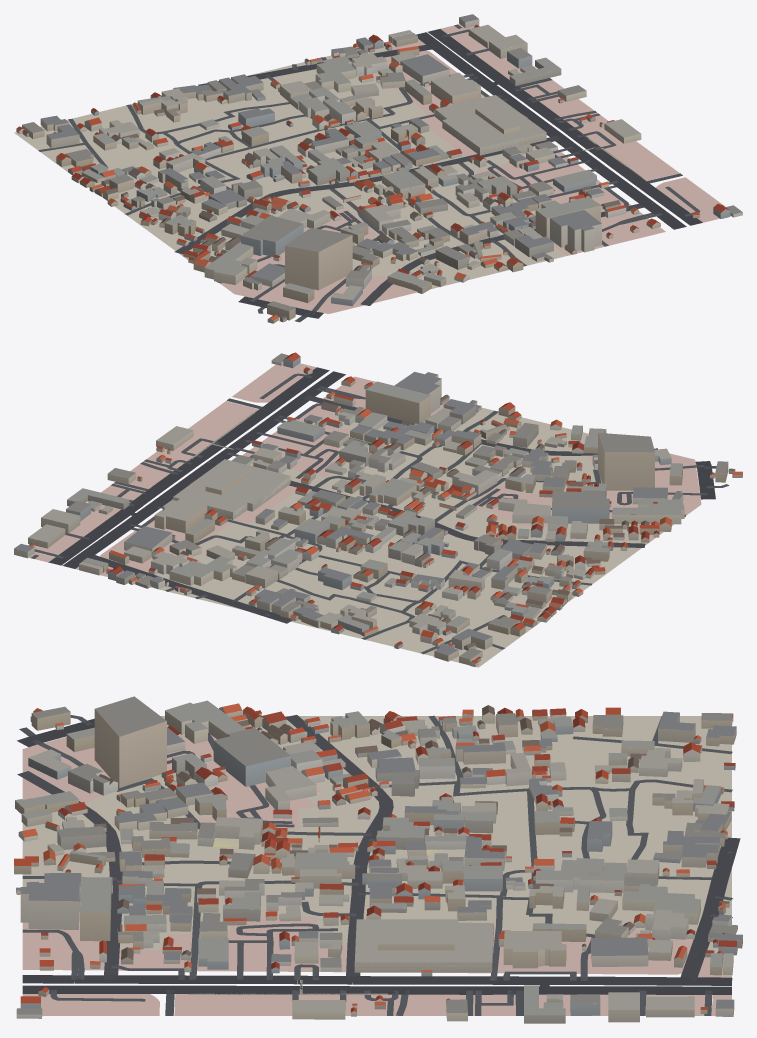
The picture shows the model from 3 angles, top to bottom: view 1: azimuth 30°, elevation 25°; view 2: azimuth 150°, elevation 25°; view 3: azimuth 270°, elevation 25°; orthographic projection. The views are drawn at different scales.
Parts seen in each view (by area): view 1: buildings_roofs, buildings_walls, landuse, roads; view 2: buildings_roofs, buildings_walls, landuse, roads; view 3: buildings_roofs, landuse, buildings_walls, roads.
Part boxes in pixels (x1,y1,x2,y2): buildings_roofs: (16,14,742,320); buildings_walls: (16,17,742,323); landuse: (14,24,730,313); roads: (38,24,702,322); buildings_roofs: (14,352,742,663); buildings_walls: (14,357,742,667); landuse: (29,363,701,667); roads: (31,367,729,654); buildings_roofs: (14,696,742,1015); landuse: (22,716,731,1015); buildings_walls: (14,707,742,1023); roads: (17,715,740,1015).
Bounding box in the file's own units: 519 × 40.01 × 514.
